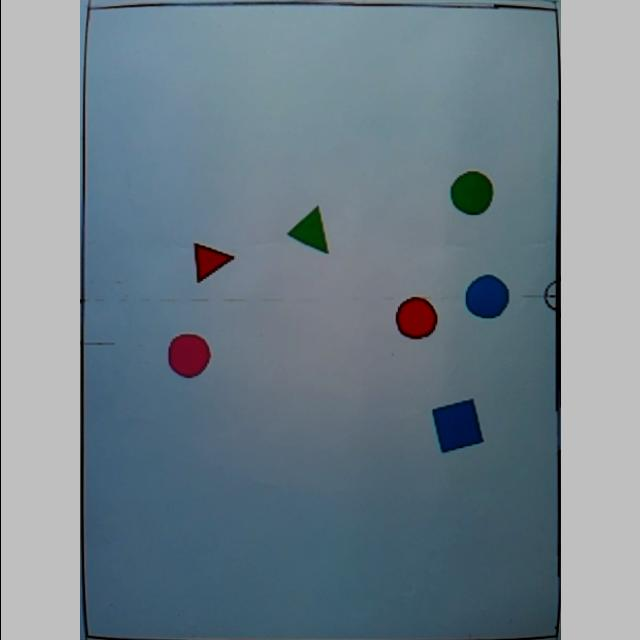blueCircle: (466, 274, 510, 318)
blueSquare: (432, 398, 484, 454)
greenCircle: (450, 170, 494, 216)
greenTriangle: (288, 205, 330, 253)
pinkCircle: (168, 334, 212, 378)
redCircle: (396, 298, 438, 340)
redTriangle: (190, 242, 236, 284)
